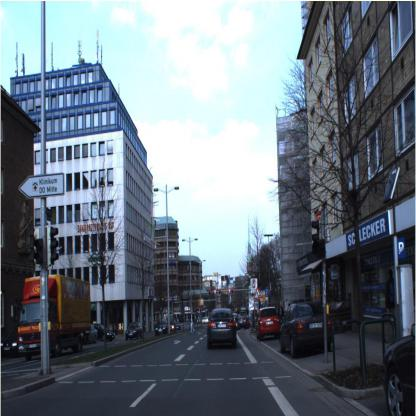danger: (252, 282, 262, 303)
